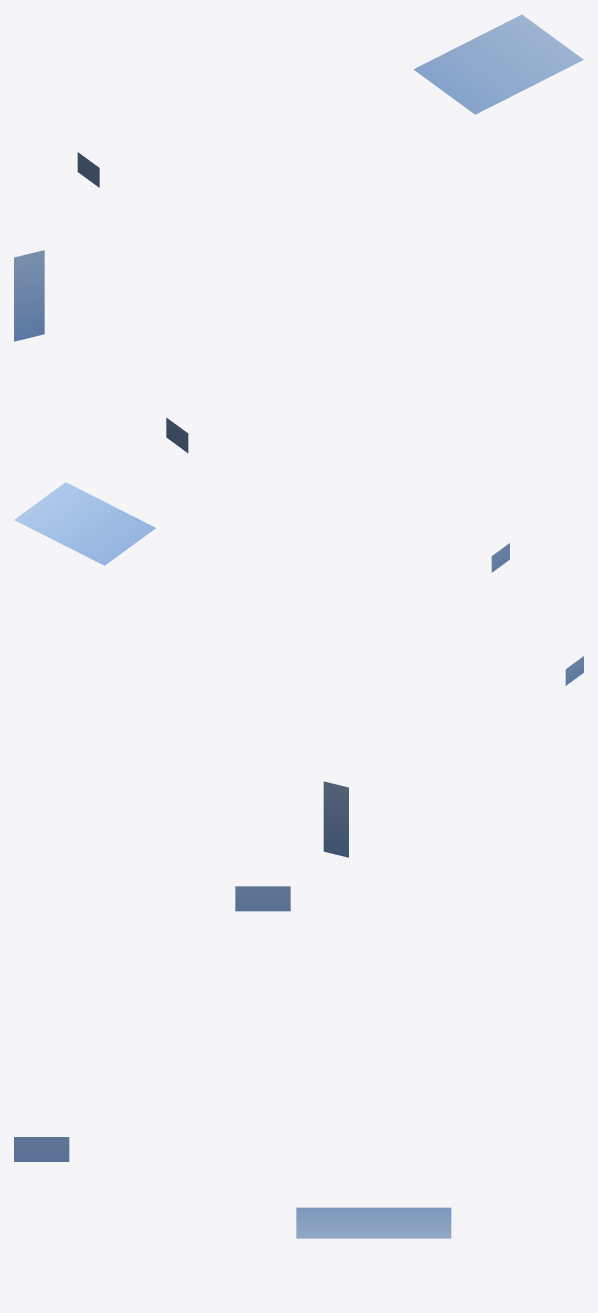
Rendered from 073_0_4_building-e_1.glb.
The picture shows the model from 3 angles, top to bottom: view 1: azimuth 30°, elevation 25°; view 2: azimuth 150°, elevation 25°; view 3: azimuth 270°, elevation 25°; orthographic projection. The views are drawn at different scales.
Parts seen in each view (by area): view 1: 0_4_building-e_1; view 2: 0_4_building-e_1; view 3: 0_4_building-e_1.
Boxes of the visible parts, x1,y1,x2,y2 form: 0_4_building-e_1: (14,14,583,452); 0_4_building-e_1: (14,482,583,857); 0_4_building-e_1: (14,886,451,1238).
Bounding box in the file's own units: 1.33 × 0.72 × 1.03.
1 material, 1 textured.
